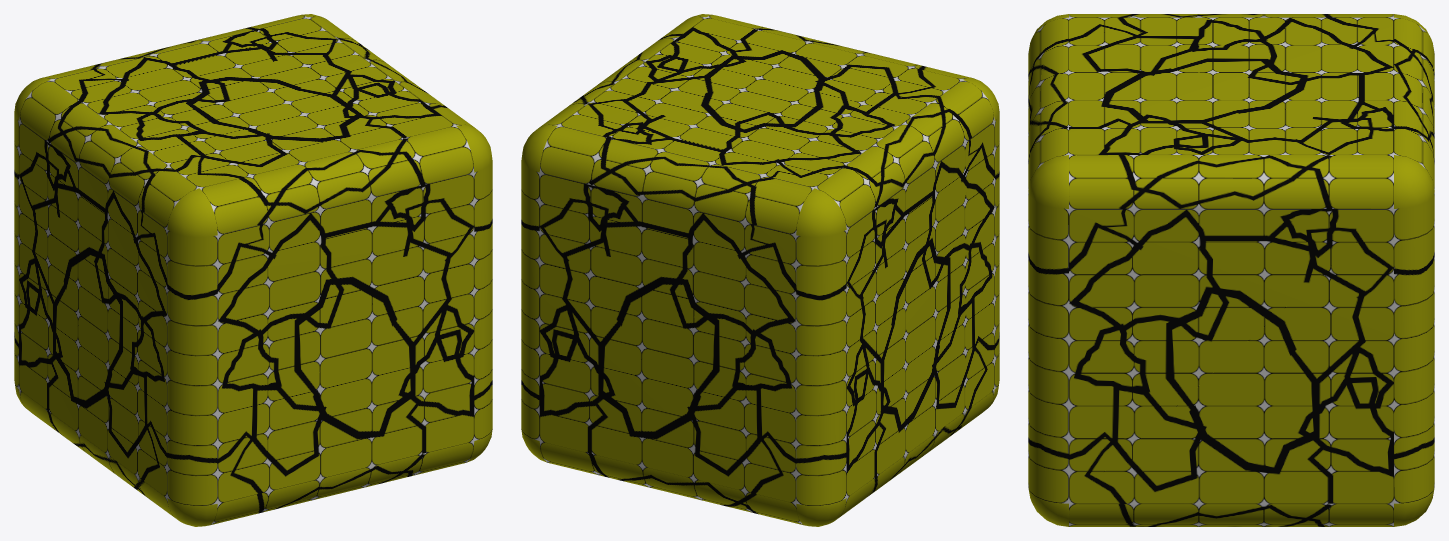
The model's file is Ground_Break.fbx.
3 renders of one model, left to right at view 1: azimuth 30°, elevation 25°; view 2: azimuth 150°, elevation 25°; view 3: azimuth 270°, elevation 25°, orthographic. The views are drawn at different scales.
Visible parts, largest first — view 1: pCube16; view 2: pCube16; view 3: pCube16.
Part boxes in pixels (left/top/right/bottom): pCube16: left=14, top=14, right=492, bottom=526; pCube16: left=521, top=14, right=999, bottom=526; pCube16: left=1028, top=14, right=1434, bottom=526.
Bounding box in the file's own units: 100 × 100 × 100.
